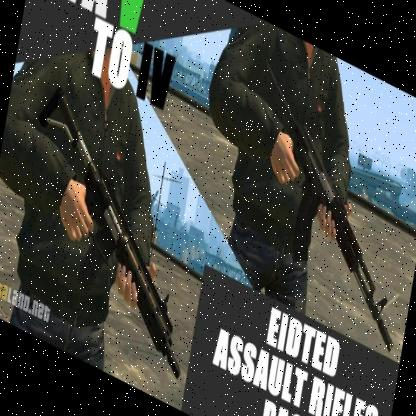rifle: (7, 78, 219, 392), (223, 52, 416, 354)
